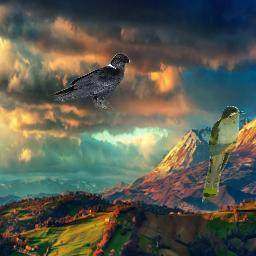Crow: (50, 53, 132, 111)
Cuckoo: (202, 106, 246, 204)
